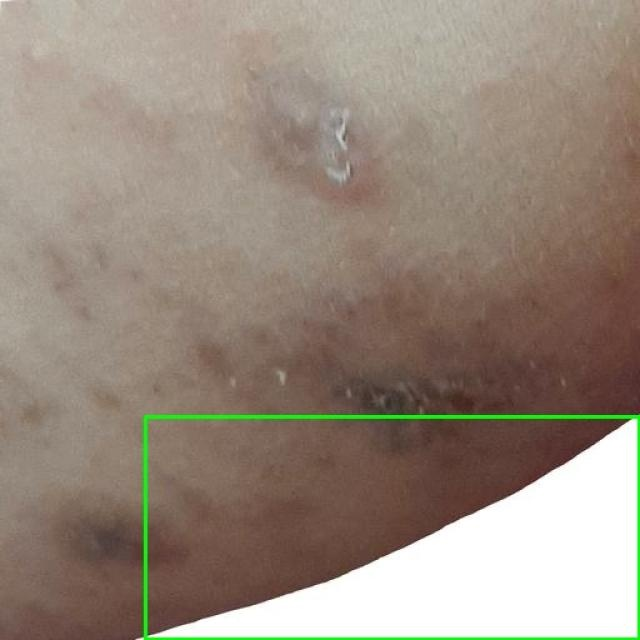Scabies: (145, 416, 639, 639)
